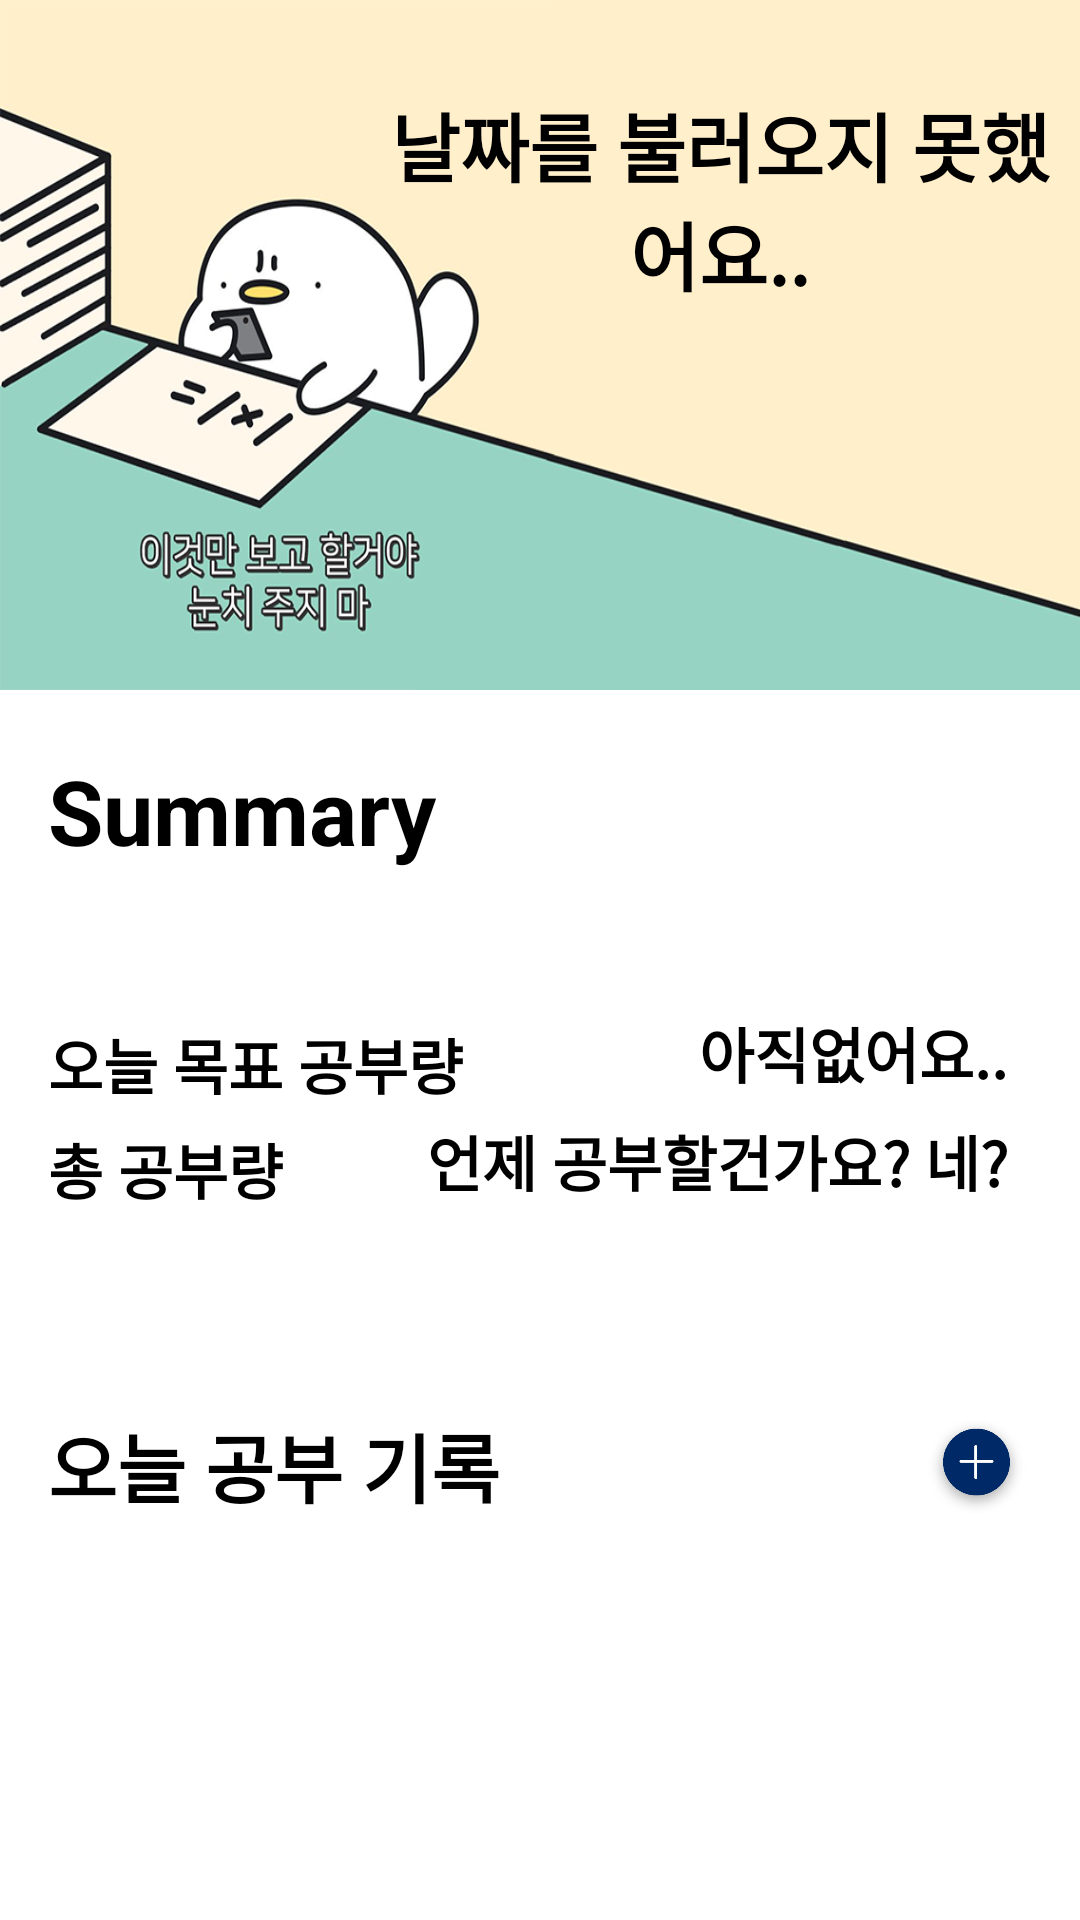

Icon click points for this 1080*1920 phone screenshot, format [x,y]:
floating: [976,1465]
